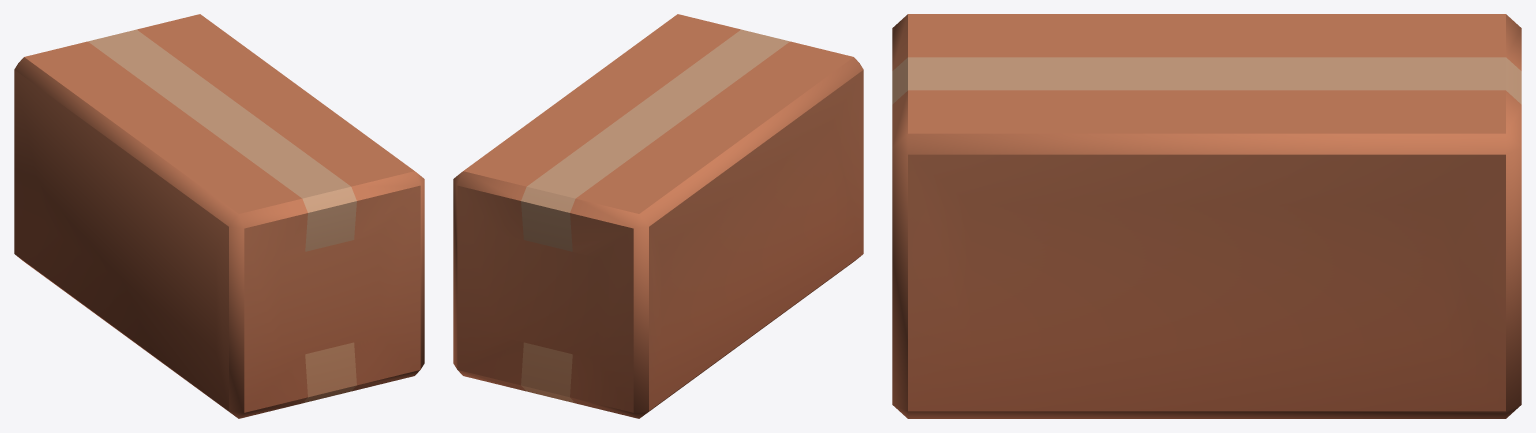
The model's file is sk_box-large.glb.
3 renders of one model, left to right at view 1: azimuth 30°, elevation 25°; view 2: azimuth 150°, elevation 25°; view 3: azimuth 270°, elevation 25°, orthographic. The views are drawn at different scales.
Parts seen in each view (by area): view 1: box-large; view 2: box-large; view 3: box-large.
Boxes of the visible parts, <box> form: box-large: <box>14,14,424,418</box>; box-large: <box>453,14,863,418</box>; box-large: <box>892,14,1521,418</box>.
Bounding box in the file's own units: 0.25 × 0.25 × 0.5.
